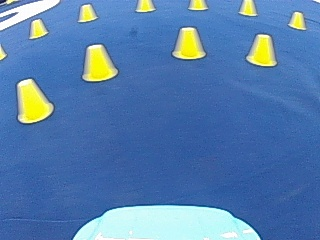cone: (15, 77, 53, 123), (81, 42, 117, 82), (172, 26, 206, 59), (246, 33, 277, 66), (77, 3, 97, 22), (287, 11, 306, 30), (29, 18, 47, 38), (239, 0, 256, 16), (135, 0, 154, 12), (188, 0, 206, 10)
